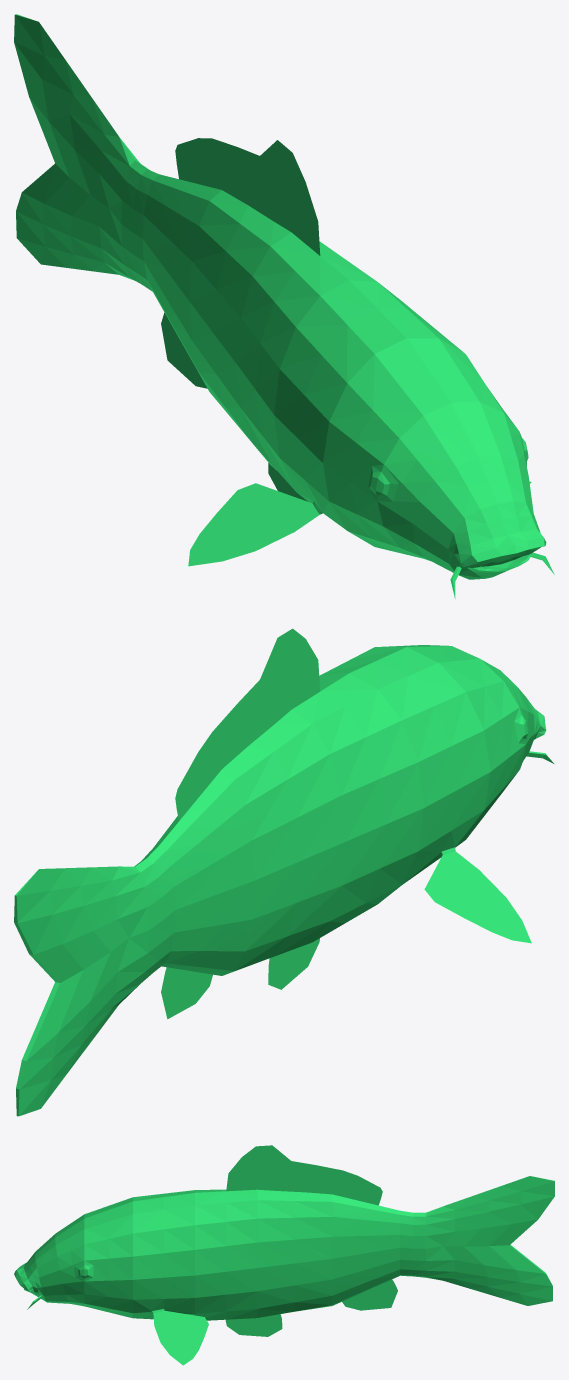
Rendered from fish2.fbx.
3 renders of one model, top to bottom at view 1: azimuth 30°, elevation 25°; view 2: azimuth 150°, elevation 25°; view 3: azimuth 270°, elevation 25°, orthographic. The views are drawn at different scales.
Parts seen in each view (by area): view 1: Рыба2; view 2: Рыба2; view 3: Рыба2.
Part boxes in pixels (x1,y1,x2,y2): Рыба2: (14,14,554,598); Рыба2: (14,628,553,1116); Рыба2: (14,1145,554,1365).
Bounding box in the file's own units: 222 × 219 × 562.
